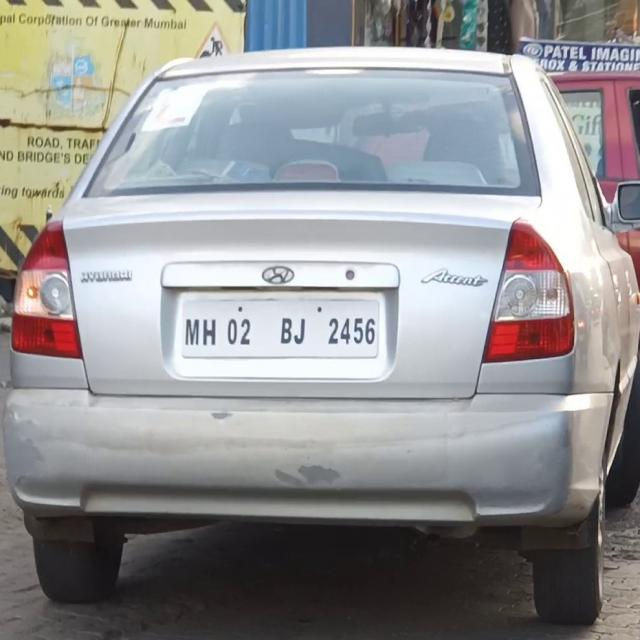license_plate: (175, 292, 384, 368)
